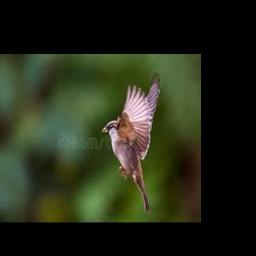Sparrow: (101, 71, 161, 213)
